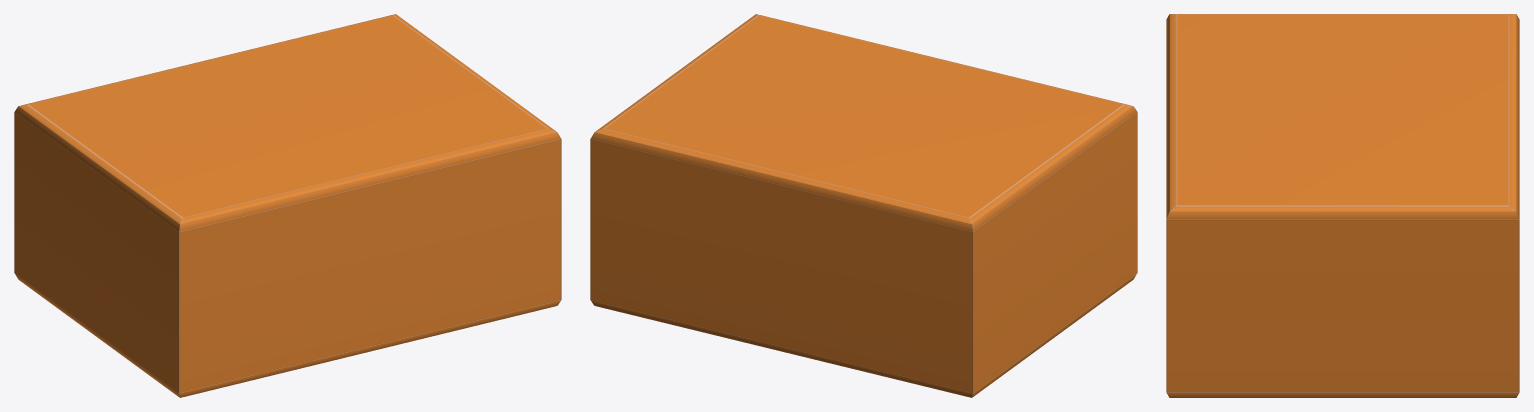
The model's file is texturedtable.obj.
3 views of the same model, side by side, from view 1: azimuth 30°, elevation 25°; view 2: azimuth 150°, elevation 25°; view 3: azimuth 270°, elevation 25° (orthographic). The views are drawn at different scales.
Parts seen in each view (by area): view 1: table; view 2: table; view 3: table.
Part boxes in pixels (x1,y1,x2,y2): table: (14, 14, 561, 397); table: (590, 14, 1137, 397); table: (1166, 14, 1519, 397).
Size of the model in its own units: 9.57 by 4.27 by 7.13.
1 material, 1 textured.
